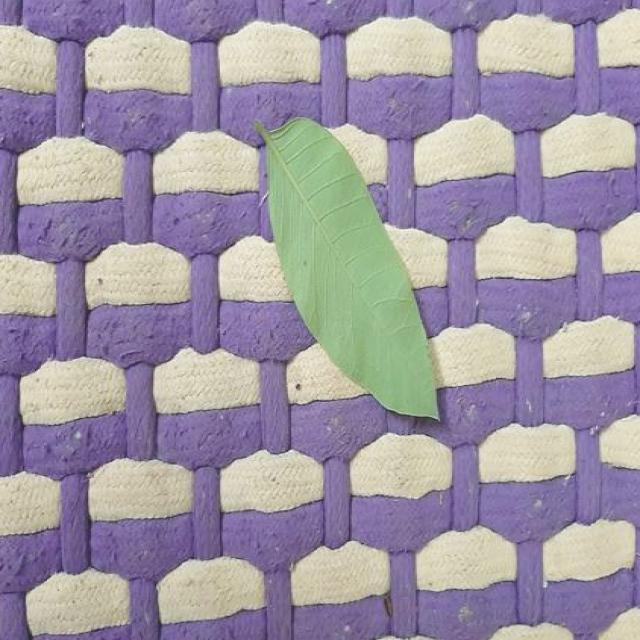leaf: (251, 114, 441, 421)
